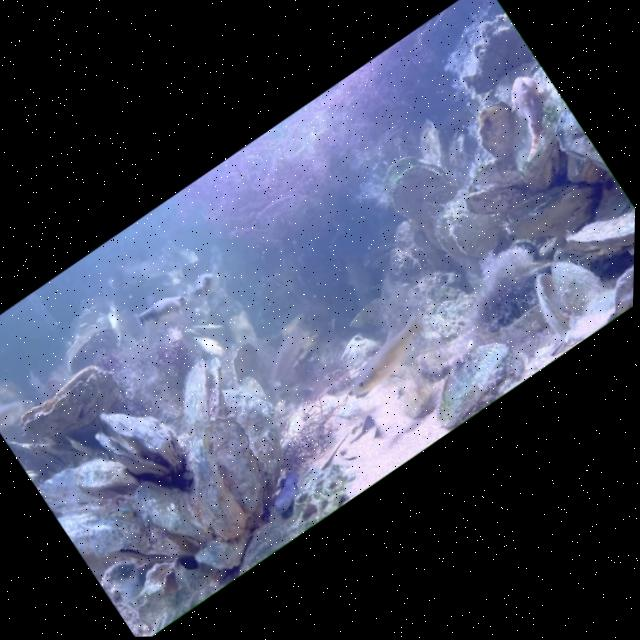Oyster-Closed: (472, 60, 600, 198), (162, 434, 257, 545), (13, 357, 123, 449), (506, 170, 612, 265), (191, 406, 280, 508), (5, 407, 92, 495), (563, 194, 635, 279), (462, 93, 537, 170)
Oyster-Indeterminate: (55, 460, 201, 608), (213, 370, 308, 482), (127, 462, 220, 566), (94, 548, 177, 638), (68, 442, 142, 517), (459, 166, 530, 232), (408, 115, 460, 174)
Oyster-Open: (84, 383, 197, 505), (522, 245, 620, 345), (160, 348, 250, 438), (369, 146, 451, 233), (53, 314, 126, 381)
